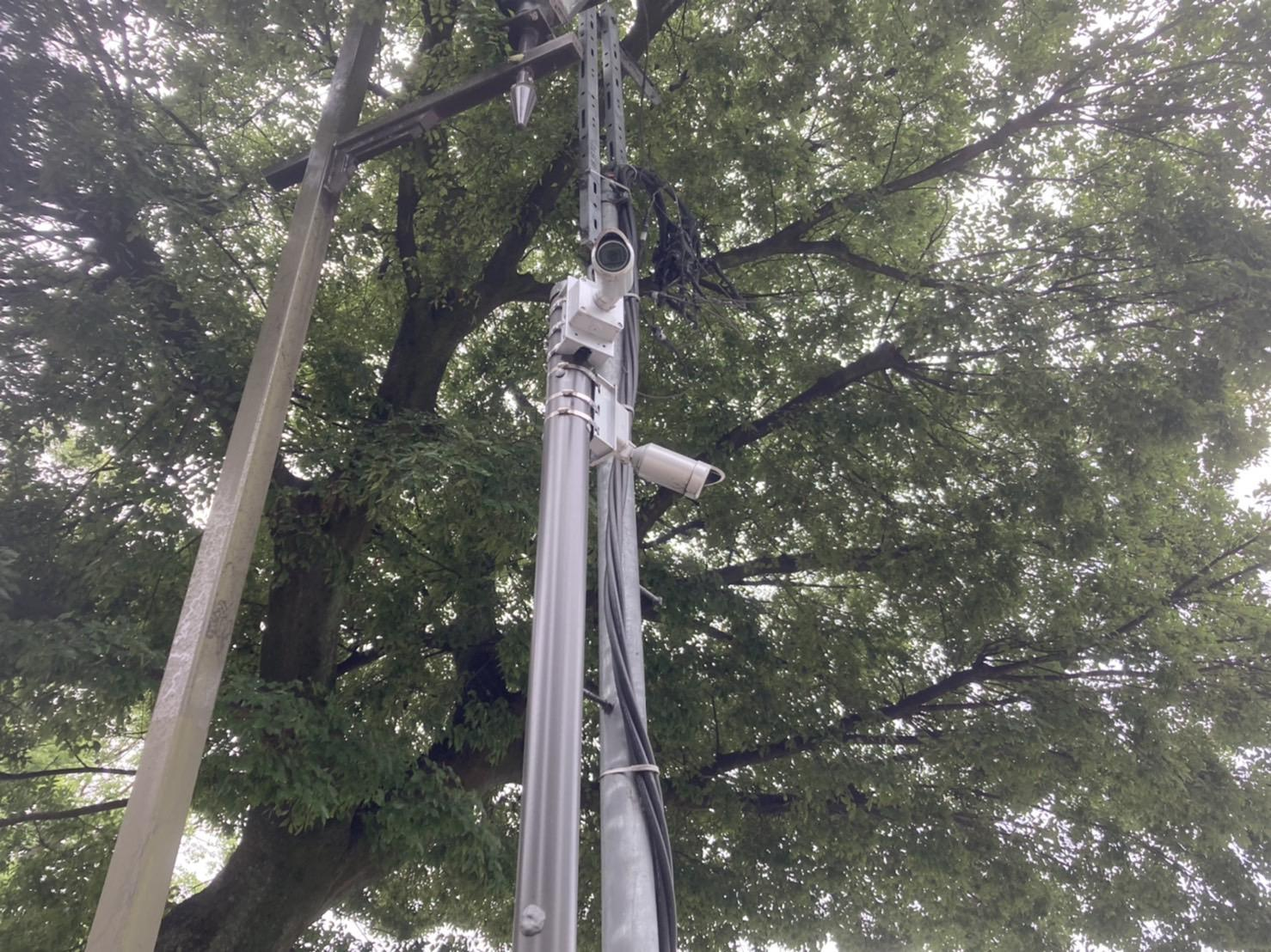tutu: (624, 436, 734, 507), (581, 225, 643, 301)
